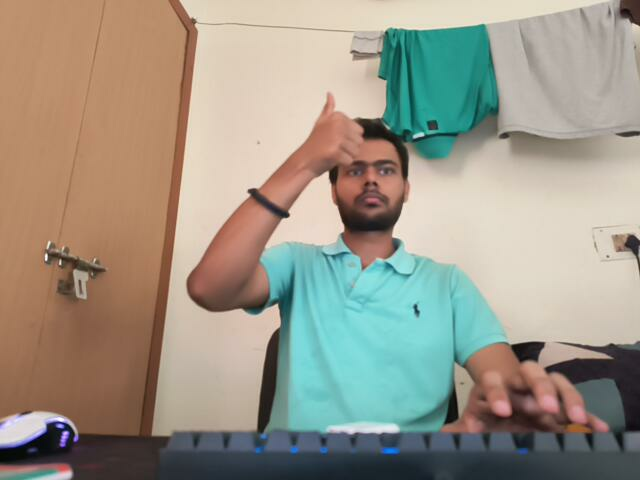ThumbsUp: (306, 90, 364, 172)
